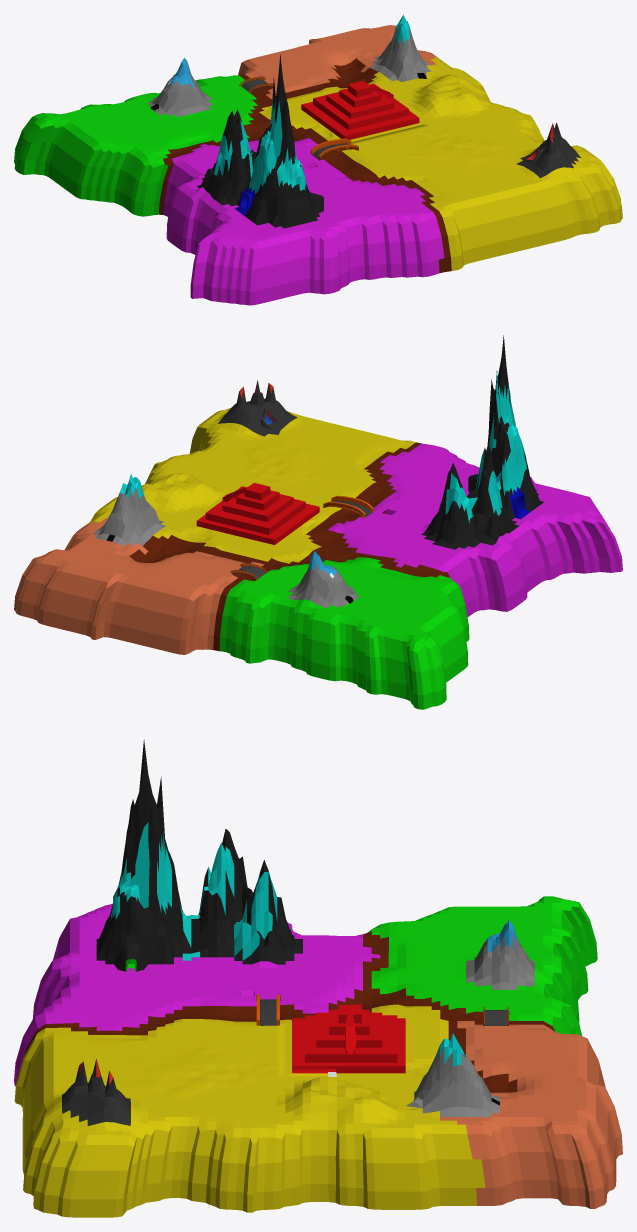
The model's file is map-0013.fbx.
3 renders of one model, top to bottom at view 1: azimuth 30°, elevation 25°; view 2: azimuth 150°, elevation 25°; view 3: azimuth 270°, elevation 25°, orthographic. The views are drawn at different scales.
Parts seen in each view (by area): view 1: Grid.001; view 2: Grid.001; view 3: Grid.001.
Boxes of the visible parts, bbox=[...] form: Grid.001: bbox=[14, 14, 622, 305]; Grid.001: bbox=[14, 335, 622, 709]; Grid.001: bbox=[14, 739, 622, 1217].
Bounding box in the file's own units: 16756 × 8293 × 16201.
